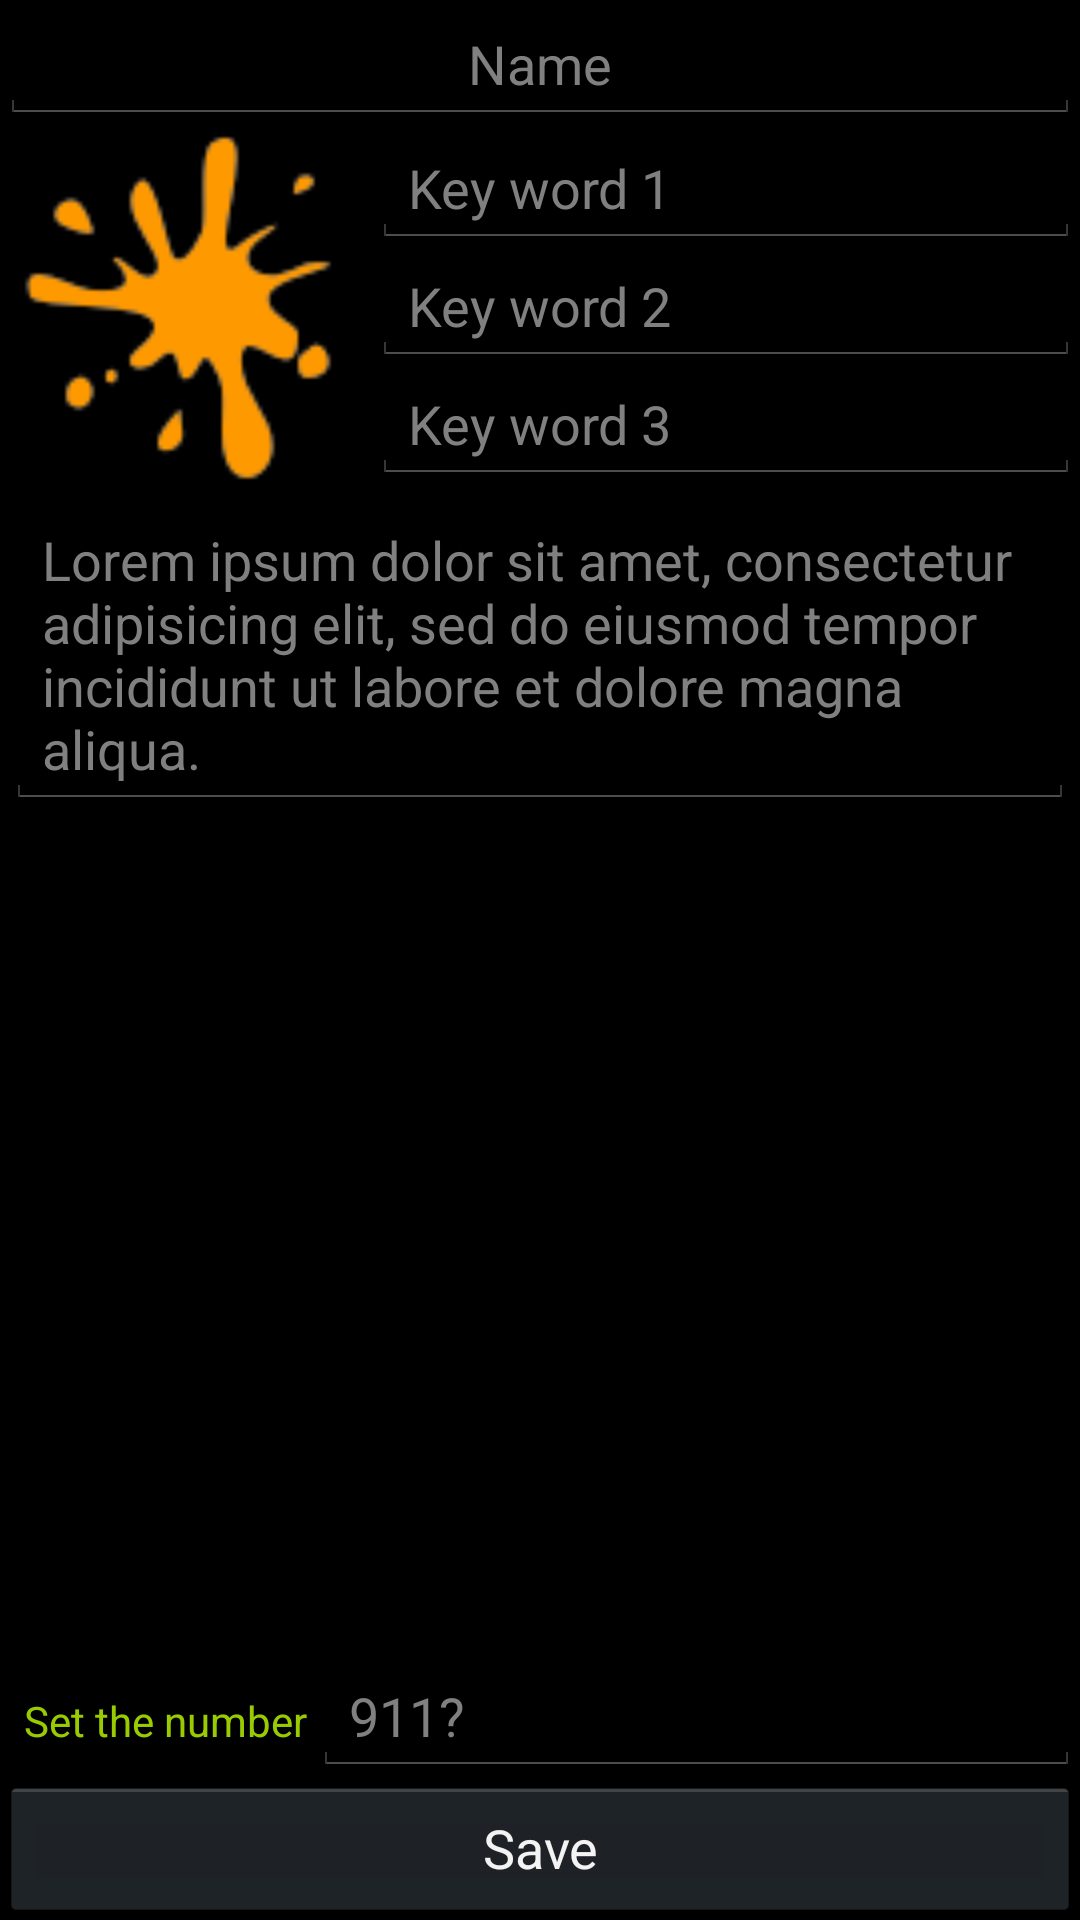

Where icons sit on this 1080×1920 app screen, as (x1, y1, x2, y2):
It is the thumbnail for edited item: (25, 136, 331, 480)
